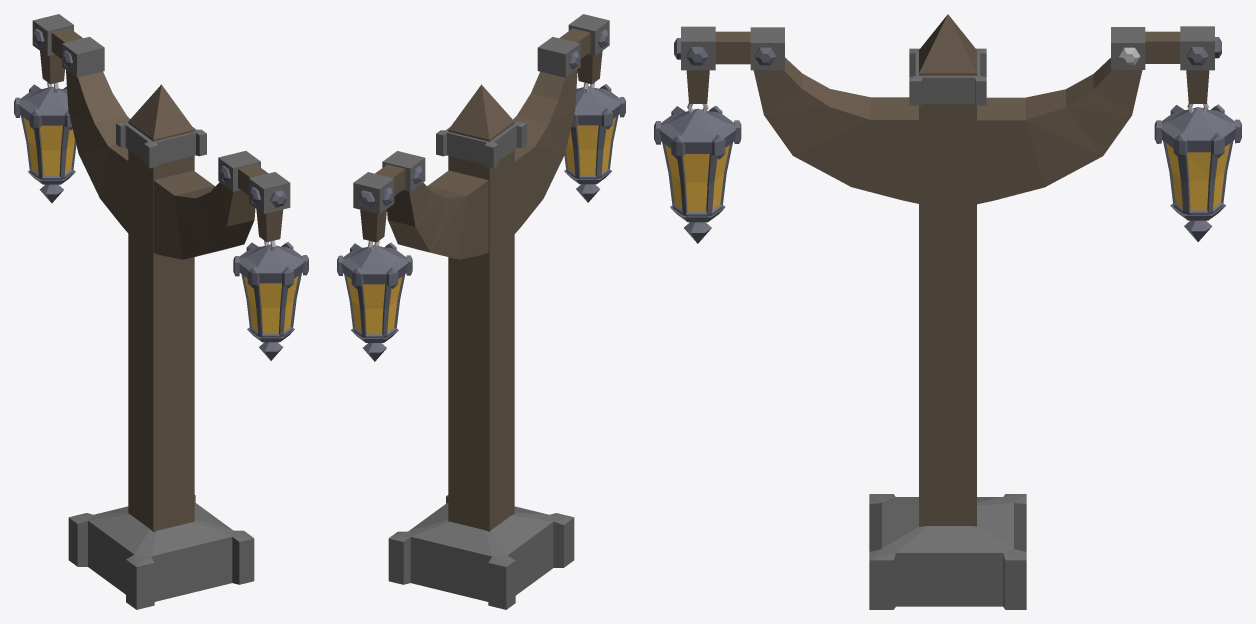
The model's file is Lamp_04.glb.
The picture shows the model from 3 angles, left to right: view 1: azimuth 30°, elevation 25°; view 2: azimuth 150°, elevation 25°; view 3: azimuth 270°, elevation 25°; orthographic projection. The views are drawn at different scales.
Parts seen in each view (by area): view 1: Lamp_4; view 2: Lamp_4; view 3: Lamp_4.
Part boxes in pixels (bbox=[...]): Lamp_4: bbox=[14, 14, 308, 609]; Lamp_4: bbox=[337, 14, 625, 609]; Lamp_4: bbox=[654, 14, 1241, 609].
Bounding box in the file's own units: 0.9959 × 3.94 × 3.72.
Materials: 1 (1 with a texture image).
